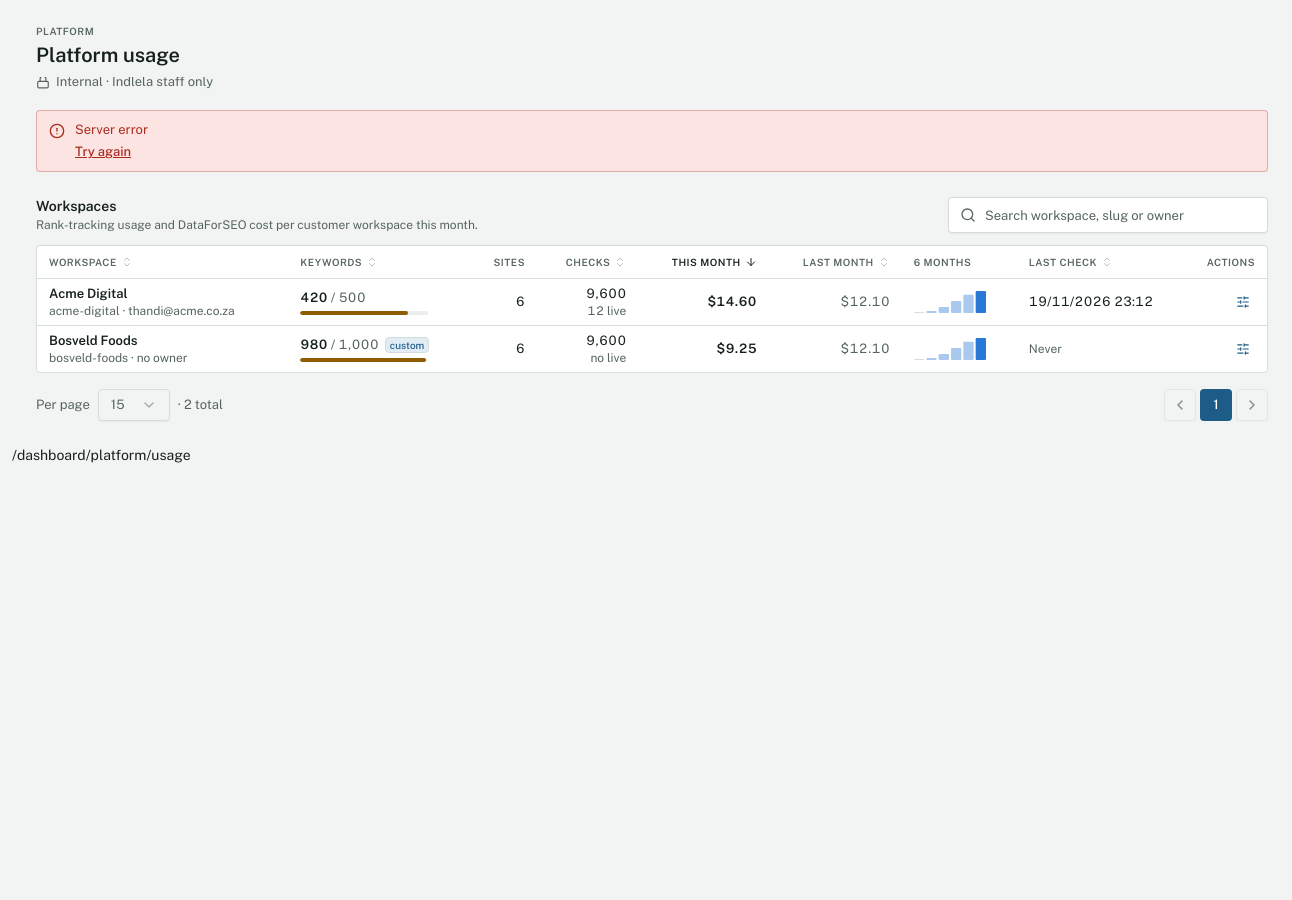
PlatformUsagePage › shows an error with a retry when the figures fail
Expected: the text "Server error" is shown, [75,122,148,137]
Step 1. Click the button "Try again" → (103, 152), box [75,143,131,161]
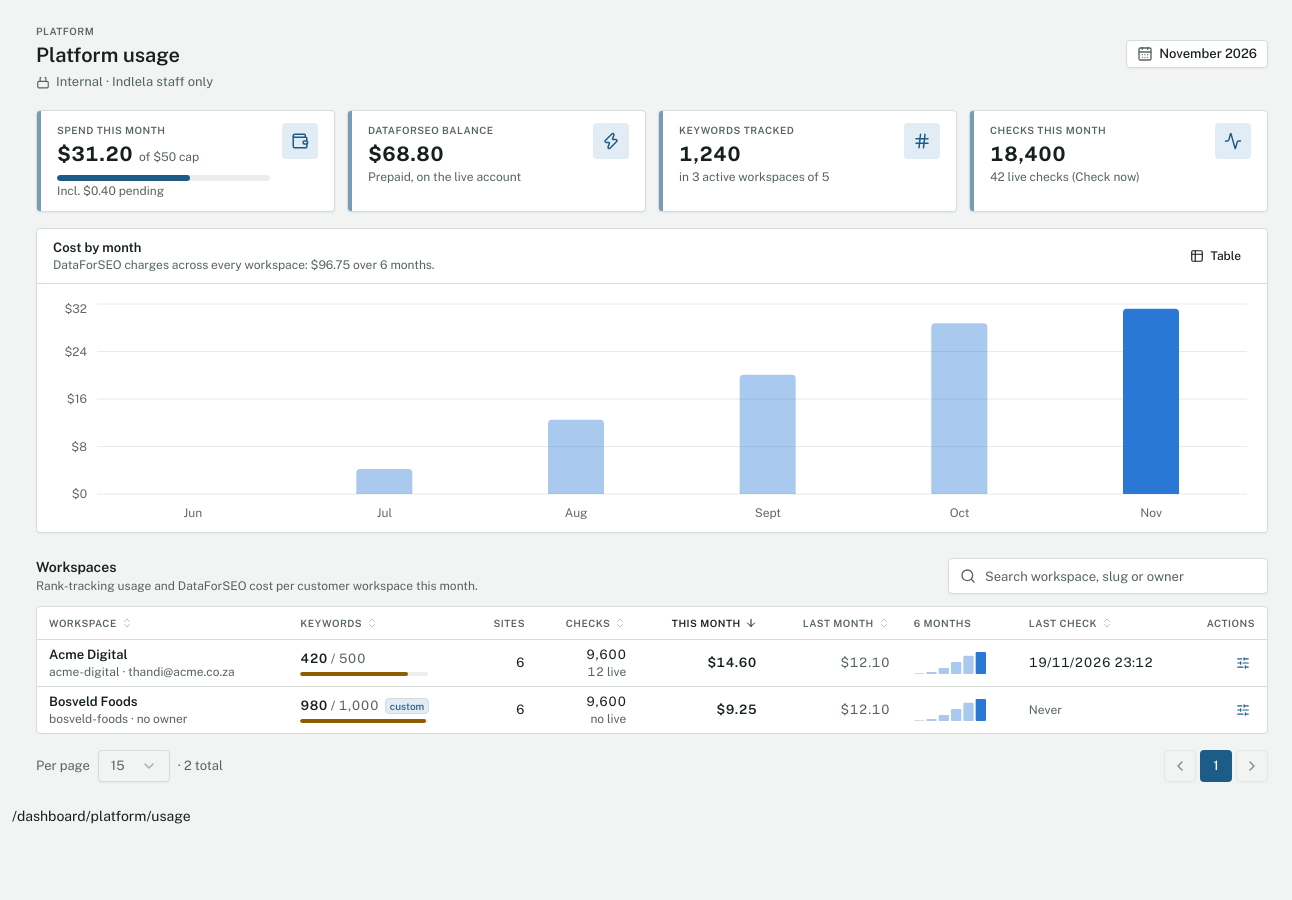
Result: the element with test id "kpi-spend" is shown at [36,110,335,212]
